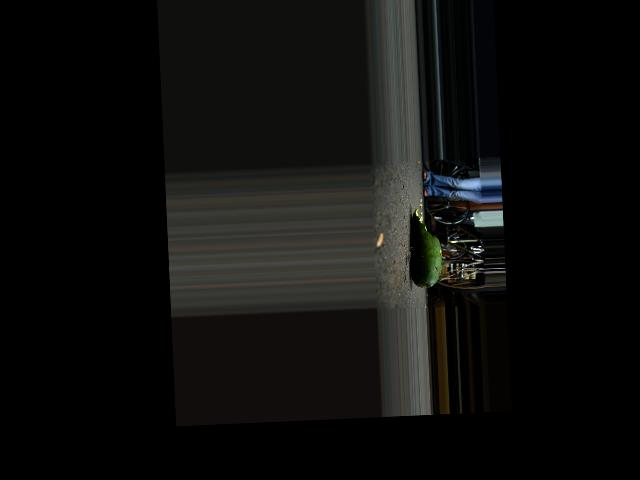cucumber: (408, 206, 442, 288)
